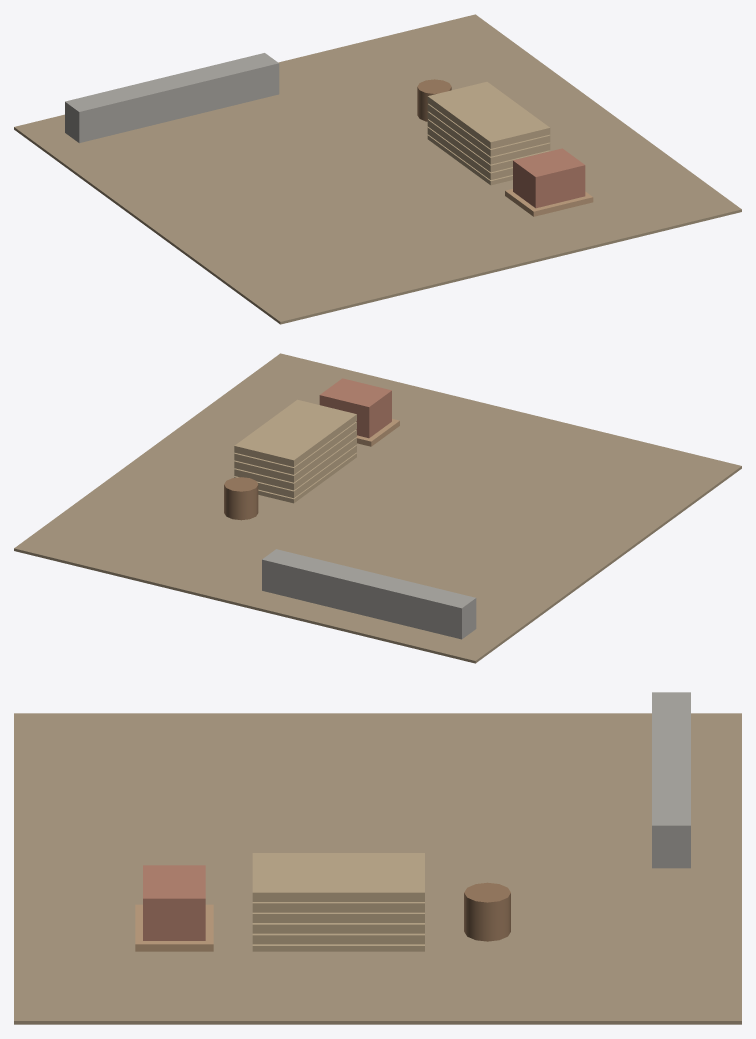
The model's file is orchard_site_1.glb.
The picture shows the model from 3 angles, top to bottom: view 1: azimuth 30°, elevation 25°; view 2: azimuth 150°, elevation 25°; view 3: azimuth 270°, elevation 25°; orthographic projection. The views are drawn at different scales.
Visible parts, largest first — view 1: body; view 2: body; view 3: body.
Boxes of the visible parts, <box> form: body: <box>14,14,741,324</box>; body: <box>14,353,741,663</box>; body: <box>14,692,741,1024</box>.
Size of the model in its own units: 1.86 by 0.176 by 1.86.
